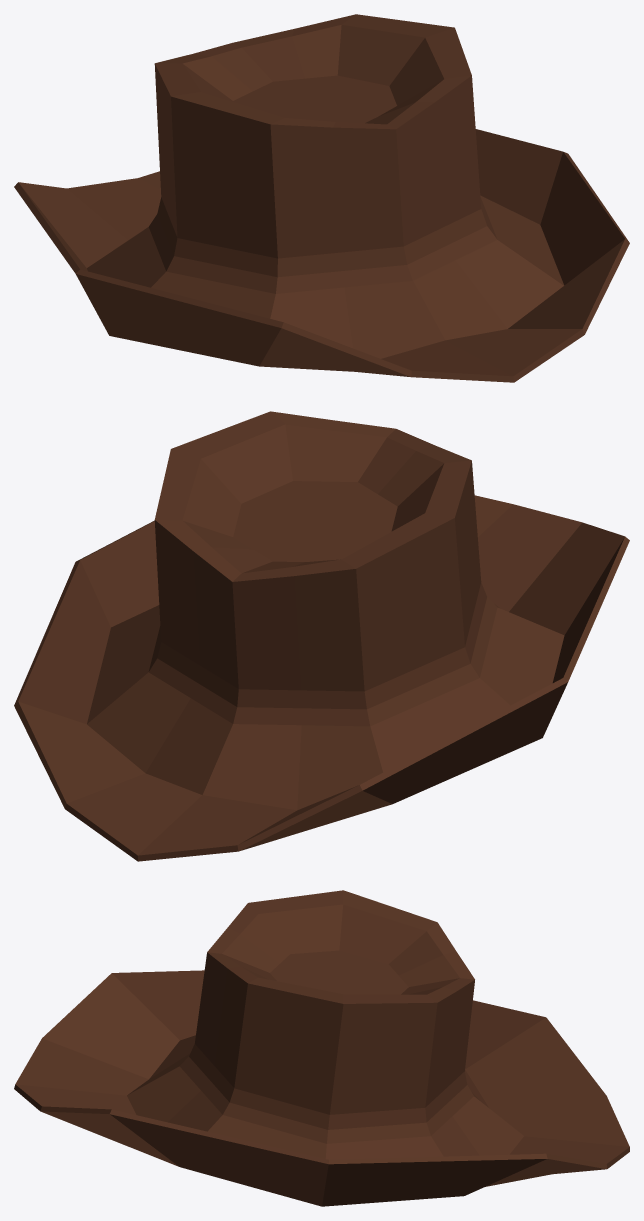
Rendered from cowboy_hat.glb.
3 renders of one model, top to bottom at view 1: azimuth 30°, elevation 25°; view 2: azimuth 150°, elevation 25°; view 3: azimuth 270°, elevation 25°, orthographic. The views are drawn at different scales.
Parts seen in each view (by area): view 1: Cowboy_Hat_Cylinder; view 2: Cowboy_Hat_Cylinder; view 3: Cowboy_Hat_Cylinder.
Part boxes in pixels (bbox=[...]): Cowboy_Hat_Cylinder: bbox=[14, 14, 629, 382]; Cowboy_Hat_Cylinder: bbox=[14, 411, 629, 861]; Cowboy_Hat_Cylinder: bbox=[14, 890, 629, 1206].
Size of the model in its own units: 1 by 0.4993 by 1.33.
